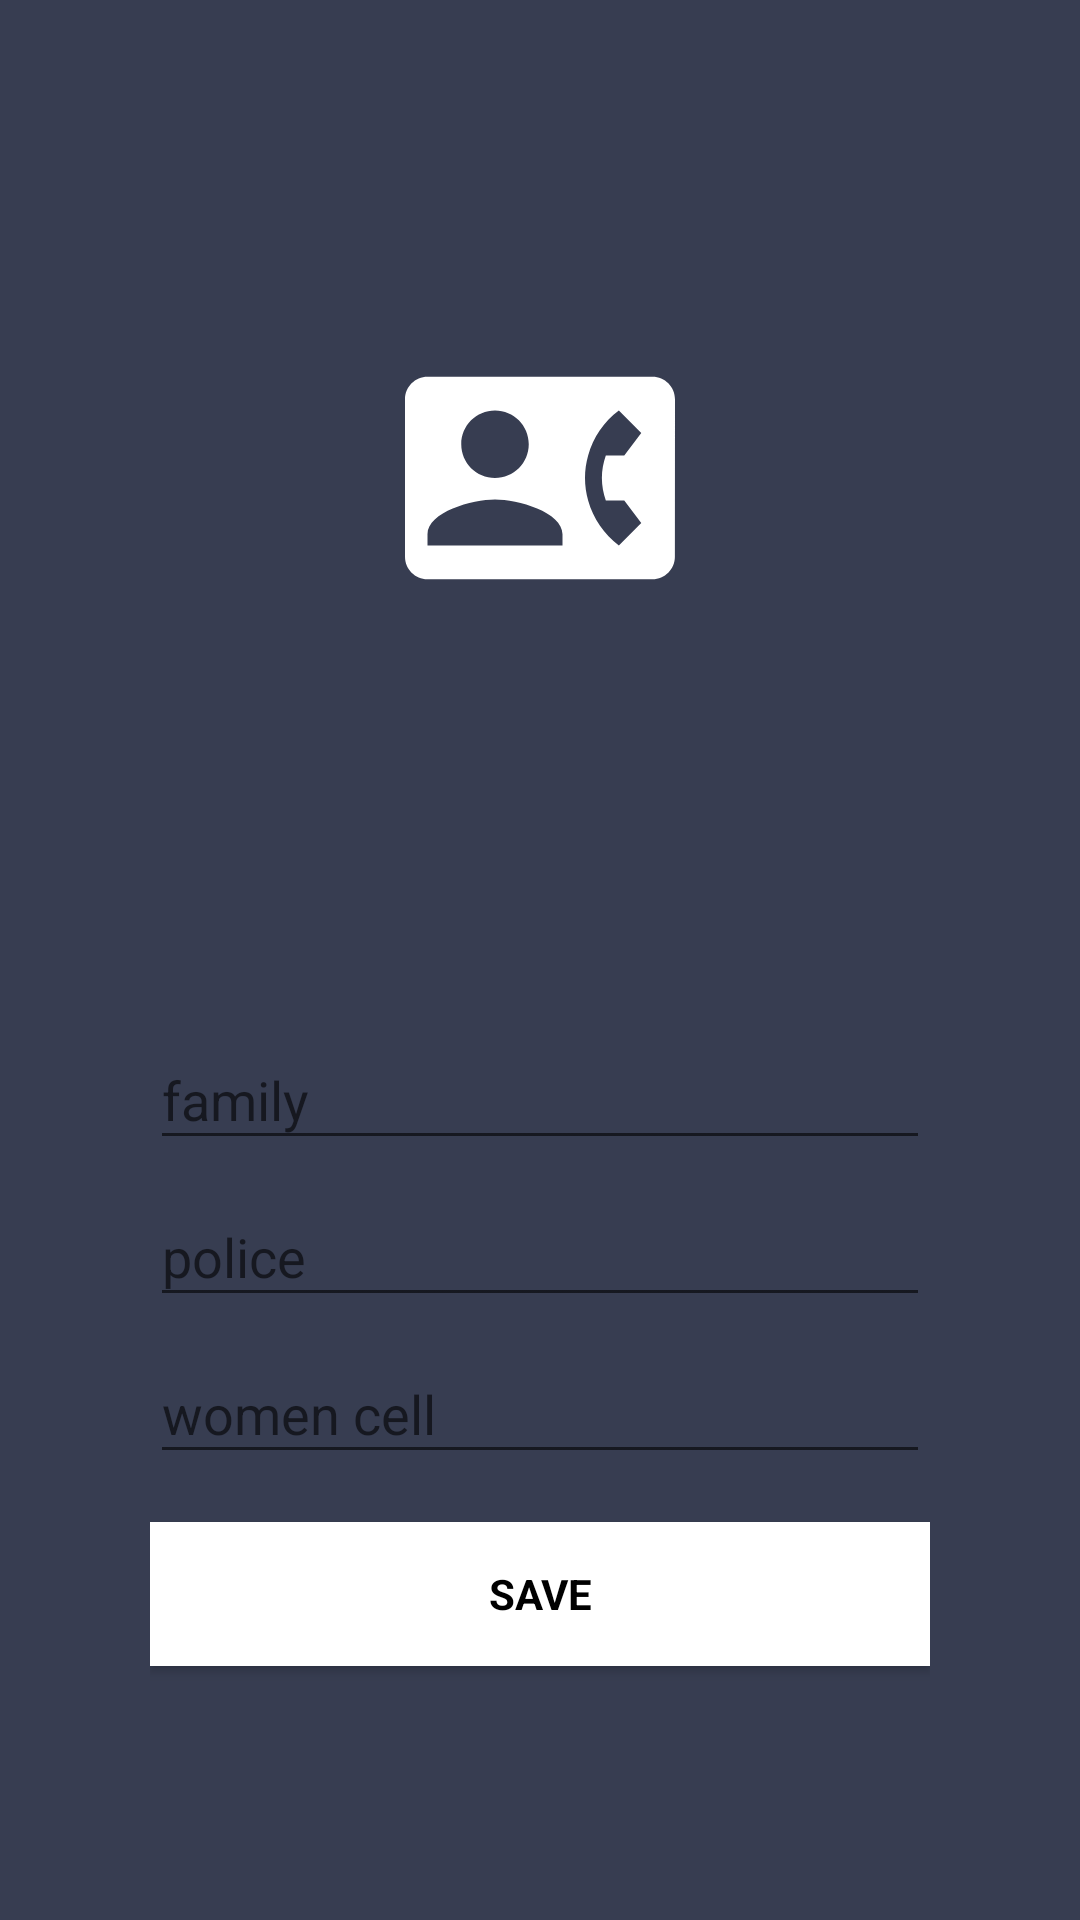

Icon bounding boxes for this 1080 × 1920 phone screenshot, format detection(x1, y1, x2, y2):
contact: detection(405, 376, 675, 580)
